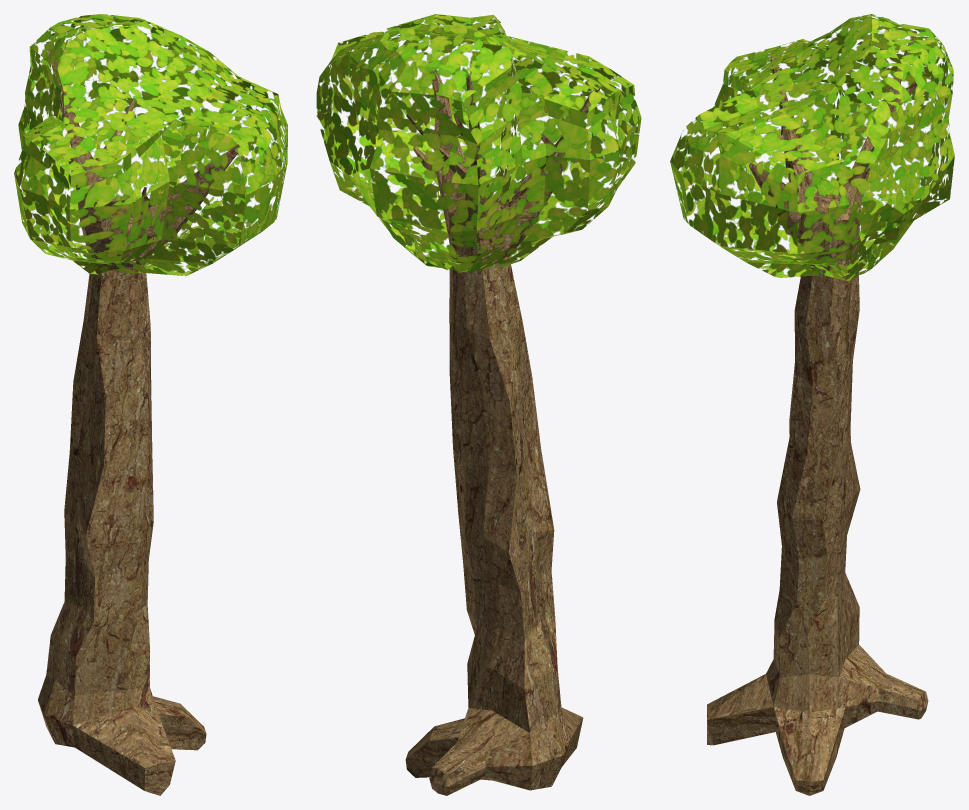
Rendered from SpringTree2.glb.
3 renders of one model, left to right at view 1: azimuth 30°, elevation 25°; view 2: azimuth 150°, elevation 25°; view 3: azimuth 270°, elevation 25°, orthographic. The views are drawn at different scales.
Visible parts, largest first — view 1: Cube.001, Cube; view 2: Cube.001, Cube; view 3: Cube.001, Cube.
Part boxes in pixels (x1=…): Cube.001: x1=14, y1=14, x2=287, y2=276; Cube: x1=38, y1=41, x2=239, y2=795; Cube.001: x1=316, y1=14, x2=641, y2=272; Cube: x1=405, y1=61, x2=600, y2=795; Cube.001: x1=670, y1=14, x2=954, y2=281; Cube: x1=707, y1=31, x2=928, y2=795.
Size of the model in its own units: 5.38 by 13.84 by 4.82.
2 materials, 2 textured.
